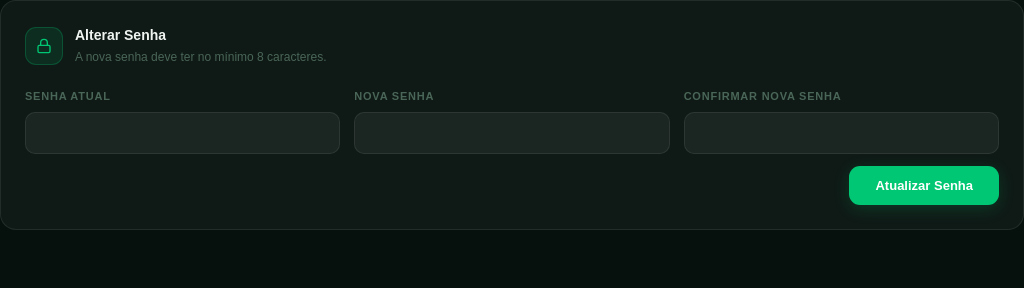
Test: SecurityPasswordForm › nova senha fraca é bloqueada localmente, sem enviar requisição
Step 1. Type "old-pass" into the password field labelled "Senha Atual" → (183,133), box [25,112,340,154]
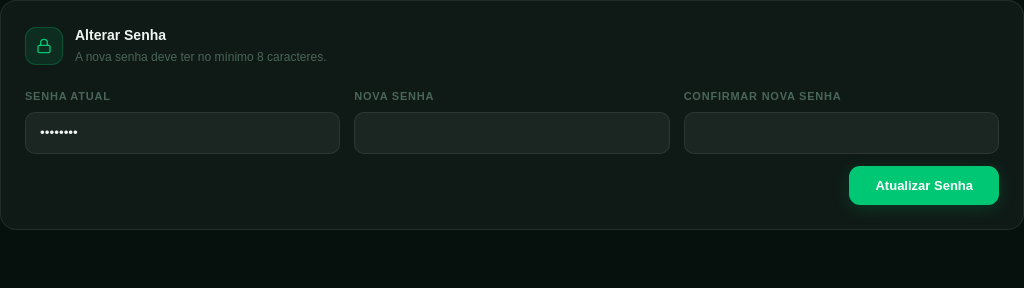
Step 2. Type "fraca" into the password field labelled "Nova Senha" → (512,133), box [354,112,670,154]
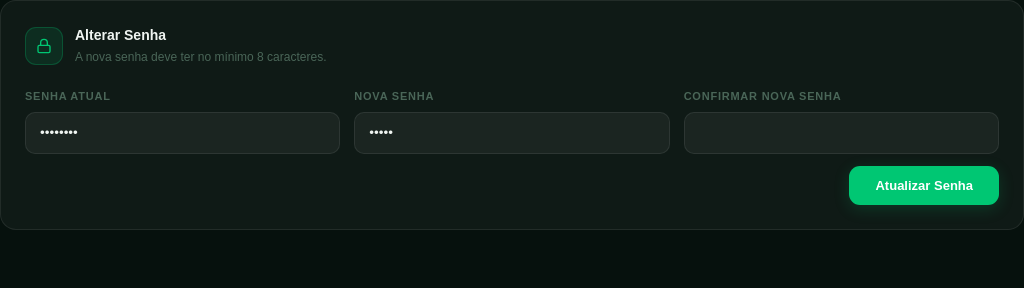
Step 3. Type "fraca" into the password field labelled "Confirmar Nova Senha" → (841,133), box [684,112,999,154]
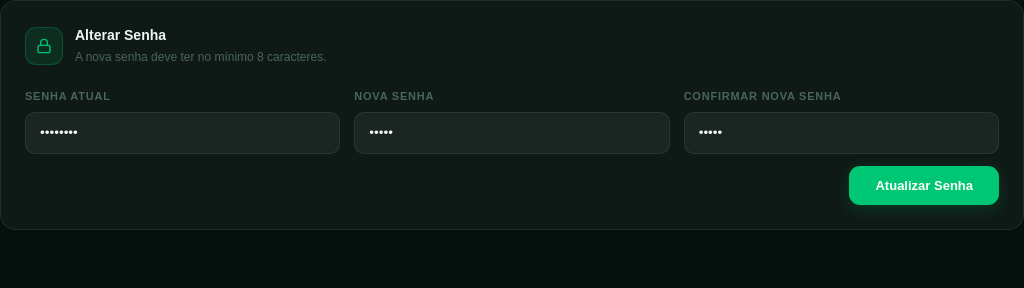
Step 4. Click the button "Atualizar Senha" → (924,186), box [850,166,999,205]
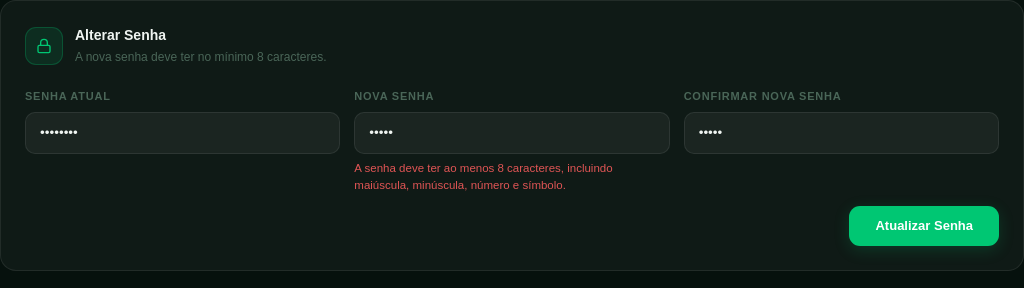
Expected: the message is shown, [354,162,613,191]
